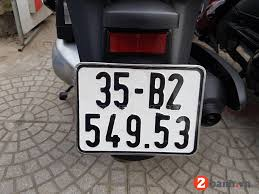Bien-so: (75, 62, 206, 157)
